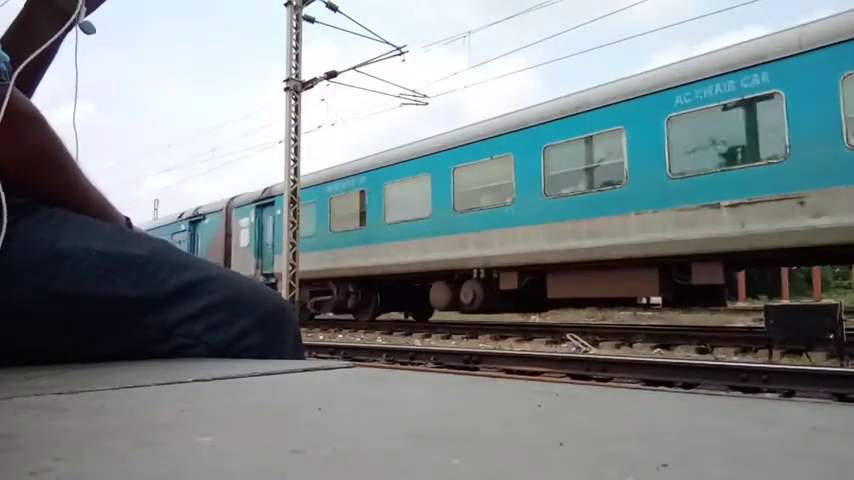Car Type: (664, 68, 778, 108)
